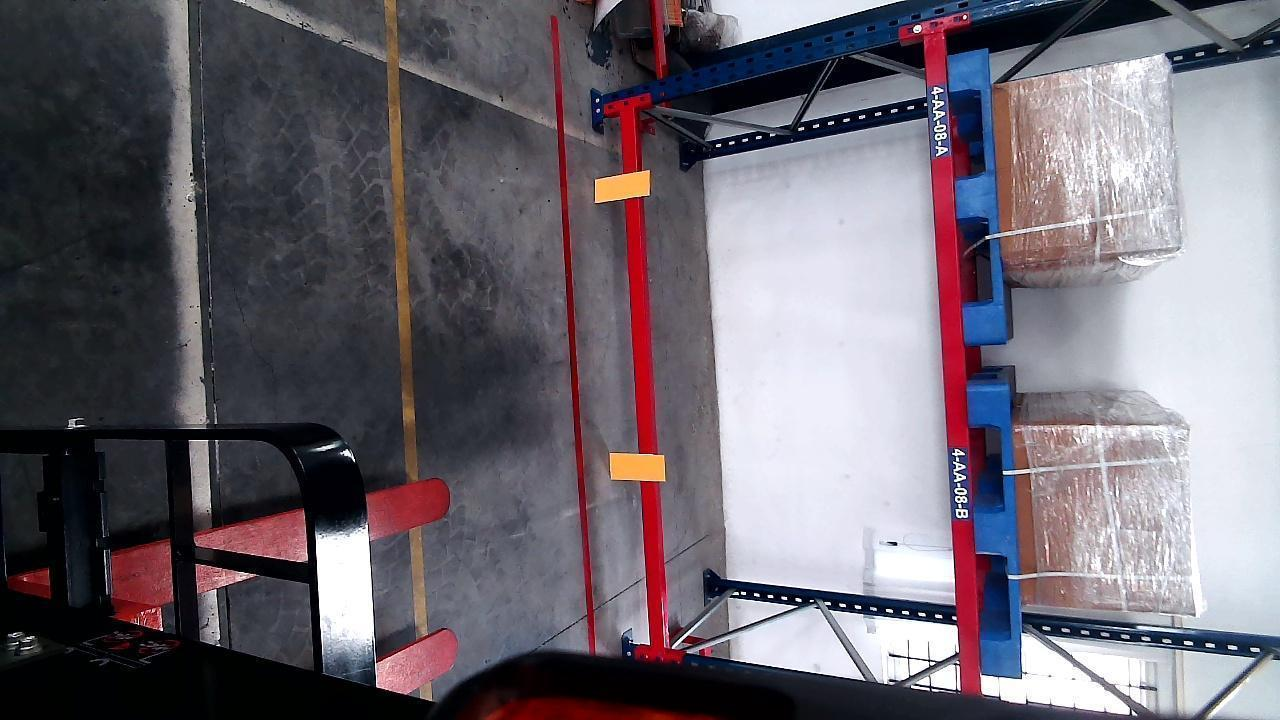red_line: (541, 14, 604, 653)
yellow_line: (384, 0, 420, 459)
